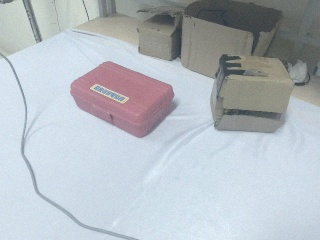box: (184, 1, 284, 80), (71, 61, 173, 137), (211, 55, 294, 132), (136, 8, 183, 61)
